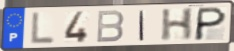4: (63, 11, 90, 45)
B: (95, 9, 126, 44)
H: (160, 7, 196, 43)
I: (138, 9, 146, 42)
L: (28, 11, 56, 46)
P: (192, 6, 228, 42)
